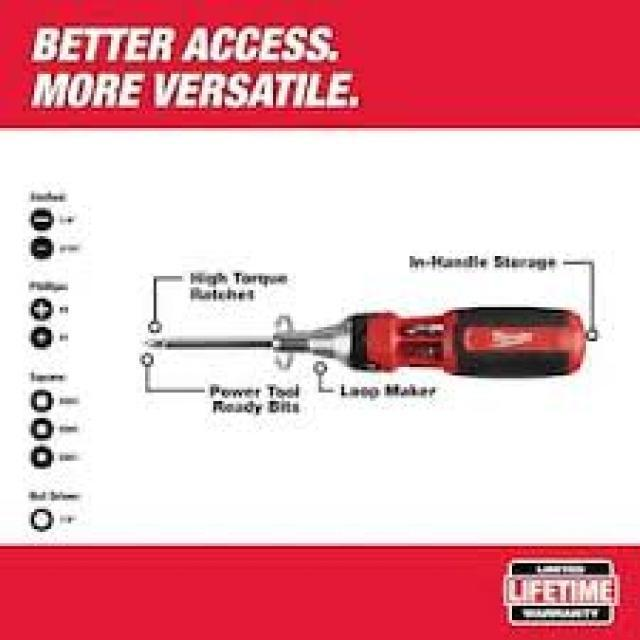screwdriver: (125, 301, 583, 387)
